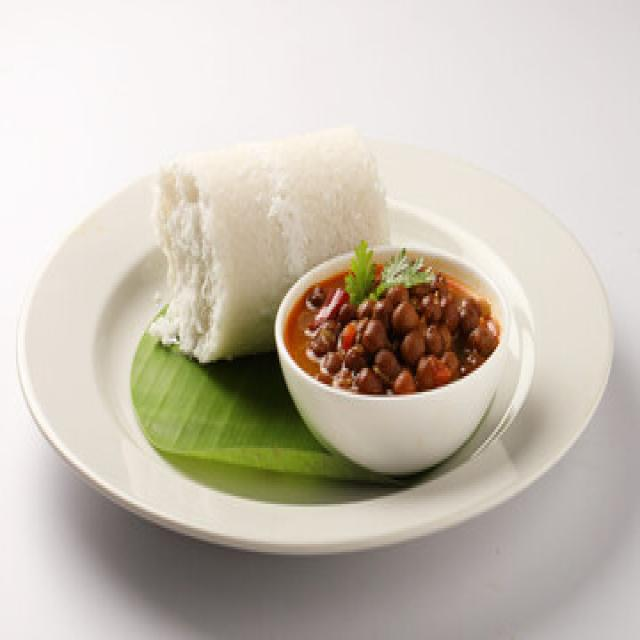CURRY: (288, 259, 501, 396)
PUTTU: (142, 129, 392, 366)
